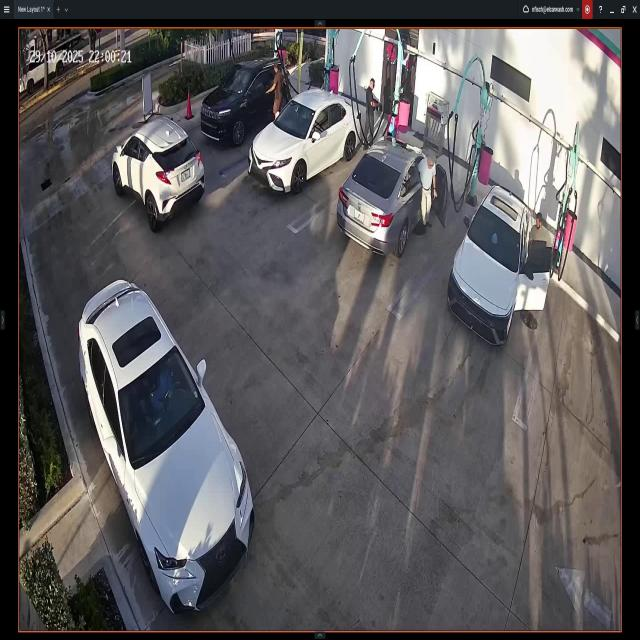Car: (78, 278, 254, 602), (450, 189, 556, 349), (338, 146, 446, 257), (248, 88, 362, 189), (113, 117, 206, 228), (202, 55, 287, 142)
